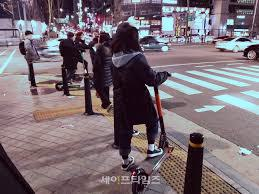nonhelmet: (111, 26, 175, 194), (54, 32, 87, 91)
